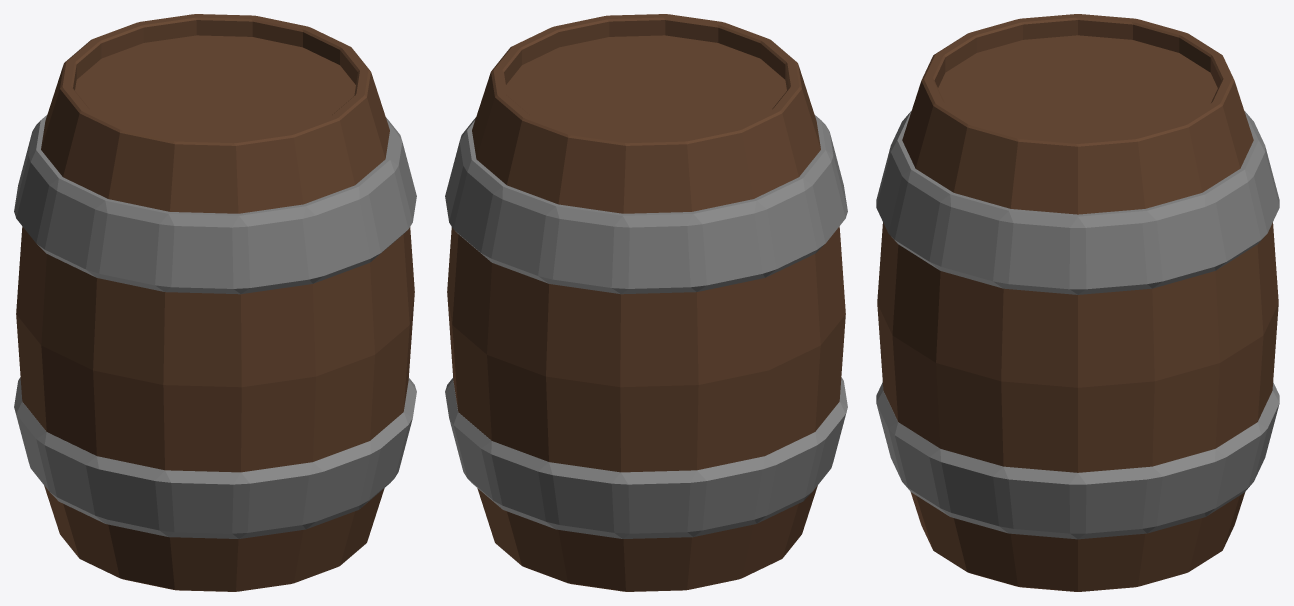
File: Barrel 2.fbx
3 renders of one model, left to right at view 1: azimuth 30°, elevation 25°; view 2: azimuth 150°, elevation 25°; view 3: azimuth 270°, elevation 25°, orthographic.
Visible parts, largest first — view 1: Cylinder; view 2: Cylinder; view 3: Cylinder.
Part boxes in pixels (box(x1,y1,x2,y2)): Cylinder: box(14, 14, 416, 591); Cylinder: box(445, 14, 847, 591); Cylinder: box(876, 14, 1279, 591).
Bounding box in the file's own units: 291 × 357 × 291.
